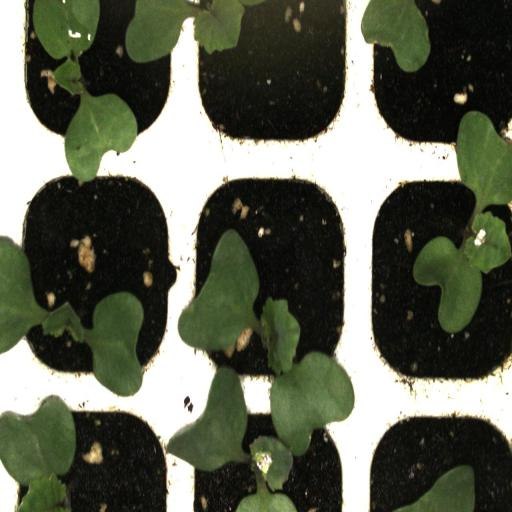seedling: (181, 155, 360, 396), (10, 159, 183, 402), (357, 159, 512, 398), (8, 0, 183, 175)
